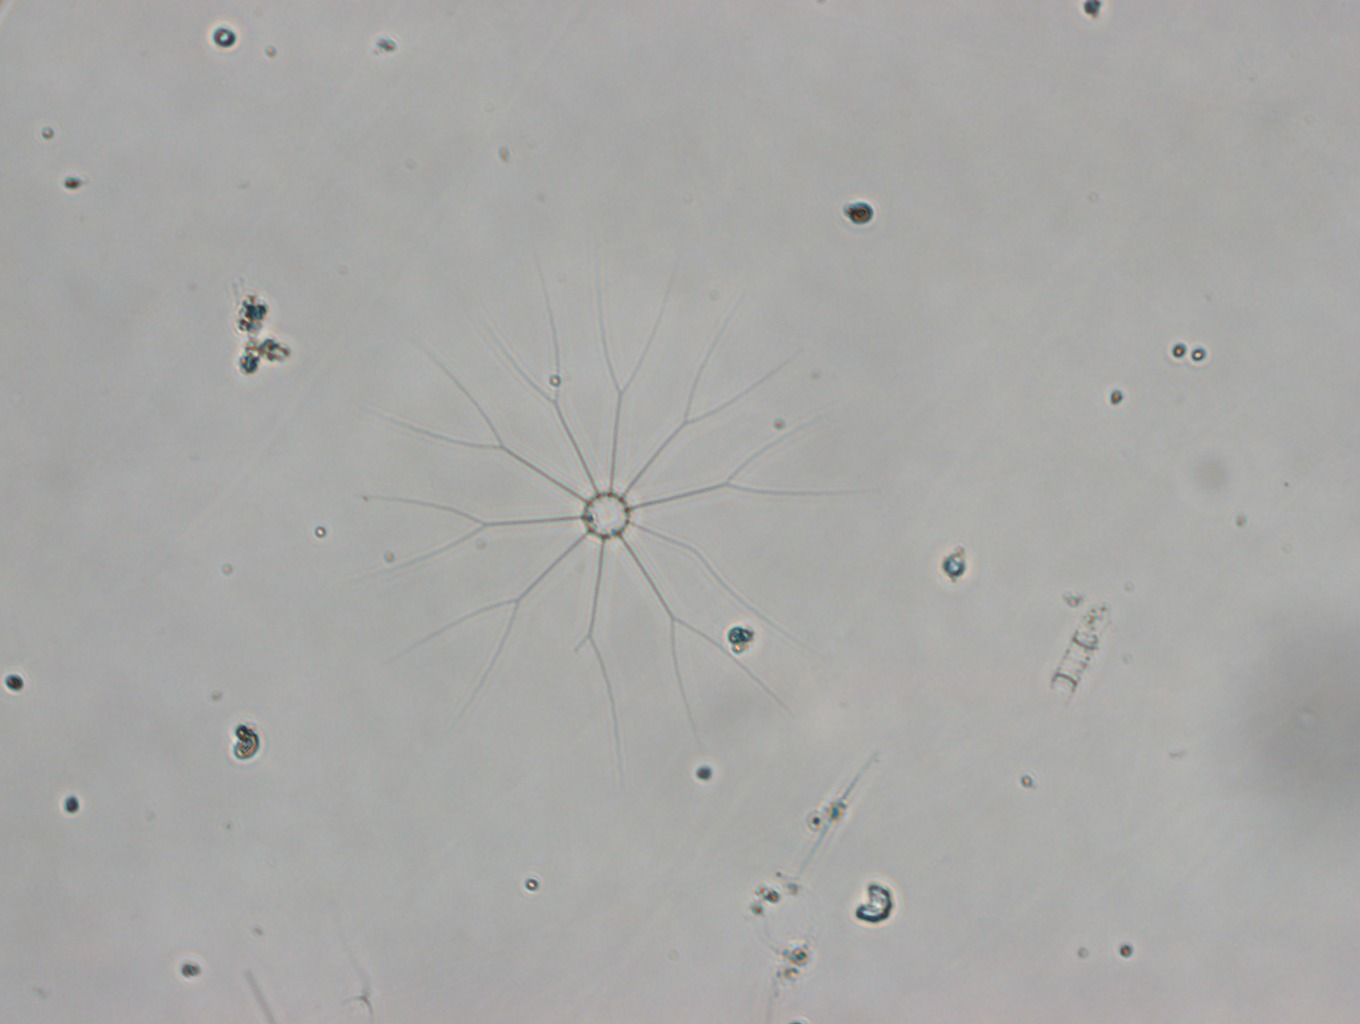bacteriastrum: (362, 241, 873, 773)
